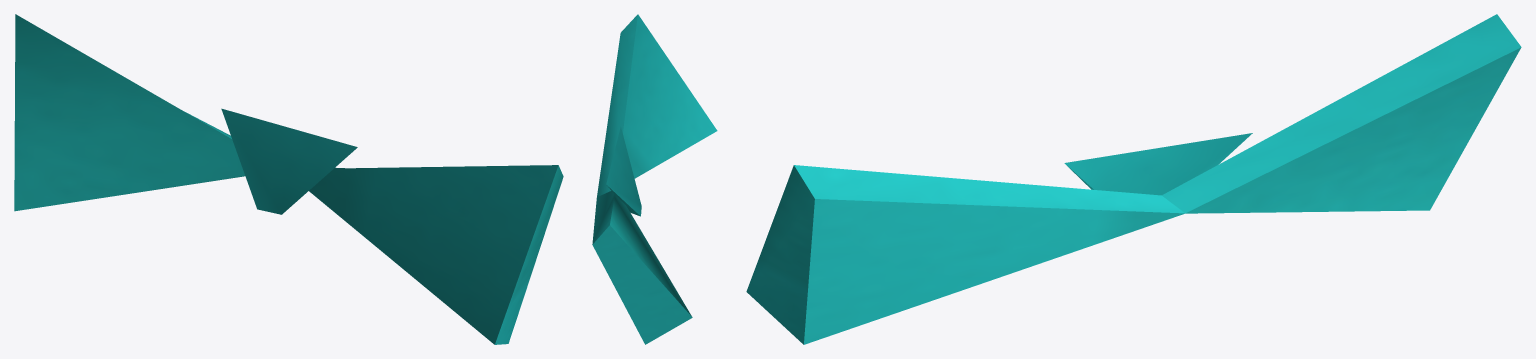
File: HairBow.FBX
The picture shows the model from 3 angles, left to right: view 1: azimuth 30°, elevation 25°; view 2: azimuth 150°, elevation 25°; view 3: azimuth 270°, elevation 25°; orthographic projection. The views are drawn at different scales.
Visible parts, largest first — view 1: Bow; view 2: Bow; view 3: Bow.
Part boxes in pixels (x1,y1,x2,y2): Bow: [14, 14, 563, 344]; Bow: [592, 14, 717, 344]; Bow: [746, 14, 1521, 344].
Size of the model in its own units: 62.36 by 107 by 31.81.
Materials: 1 (1 with a texture image).
